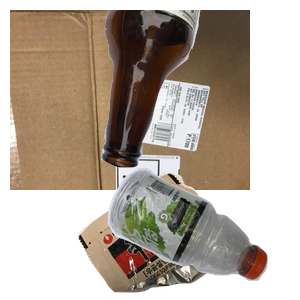cardboard: (10, 10, 250, 190)
glass: (99, 10, 300, 170)
plastic: (105, 165, 300, 300)
trash: (76, 170, 300, 300)
